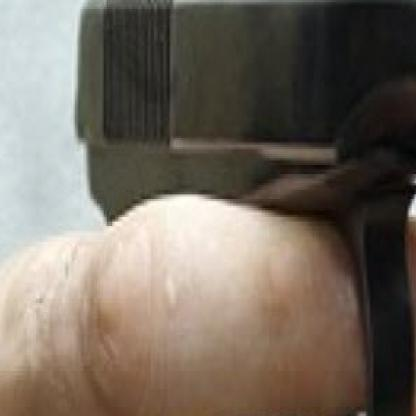gun: (66, 0, 414, 414)
